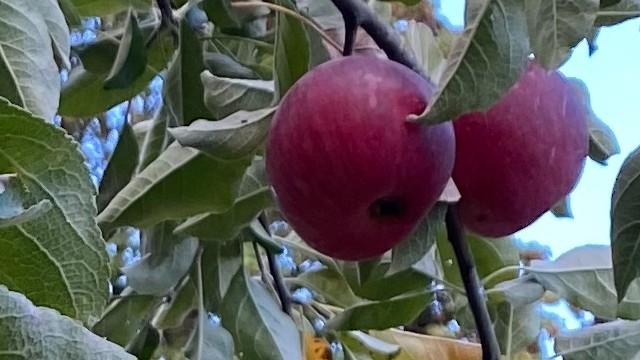fruit: (268, 56, 454, 258), (452, 58, 589, 238)
